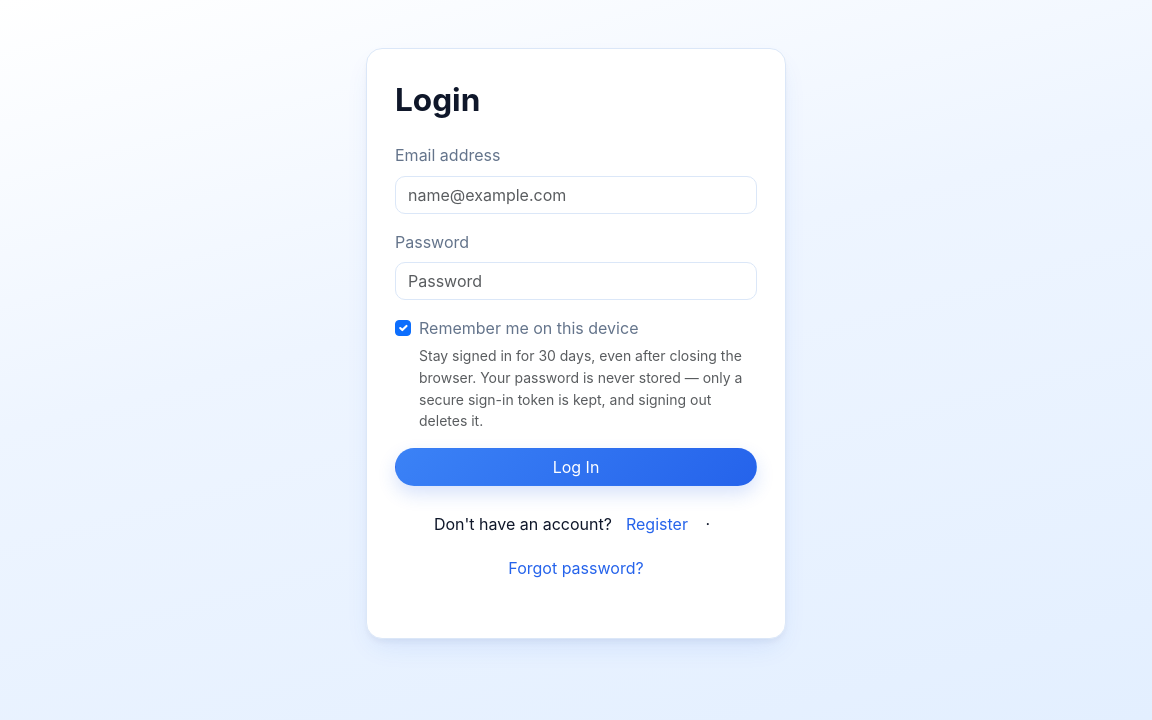
Test: Login Component › shows validation errors when submitting empty form
This screenshot has width=1152, height=720.
Click the button "Log In" at (576, 467), box [395, 448, 757, 486]
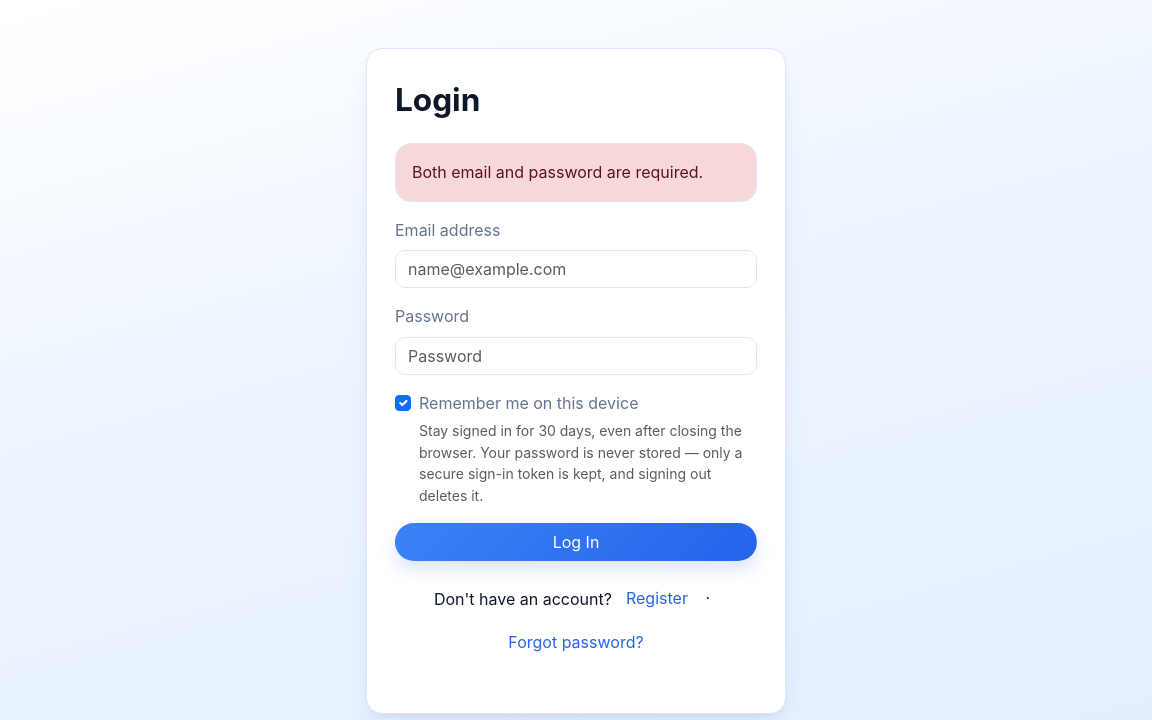
Expected: the text "Both email and password are required." is shown, [395, 143, 757, 202]
